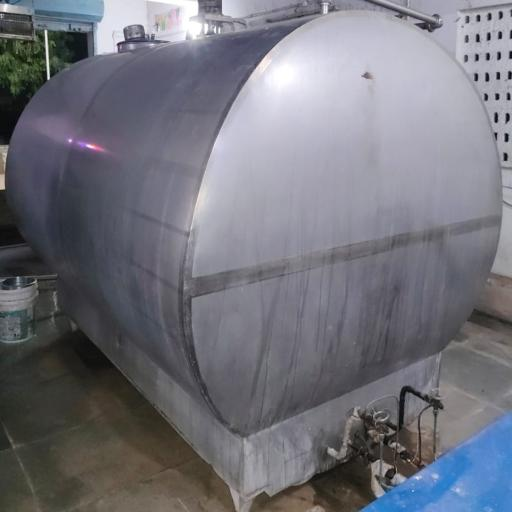silo: (4, 8, 505, 511)
